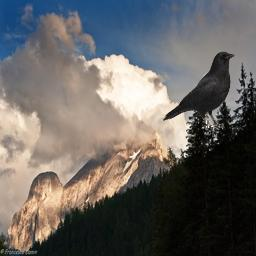Crow: (162, 50, 236, 131)
